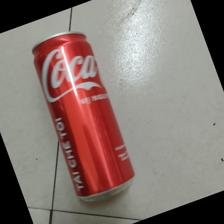Coca: (31, 32, 137, 205)
